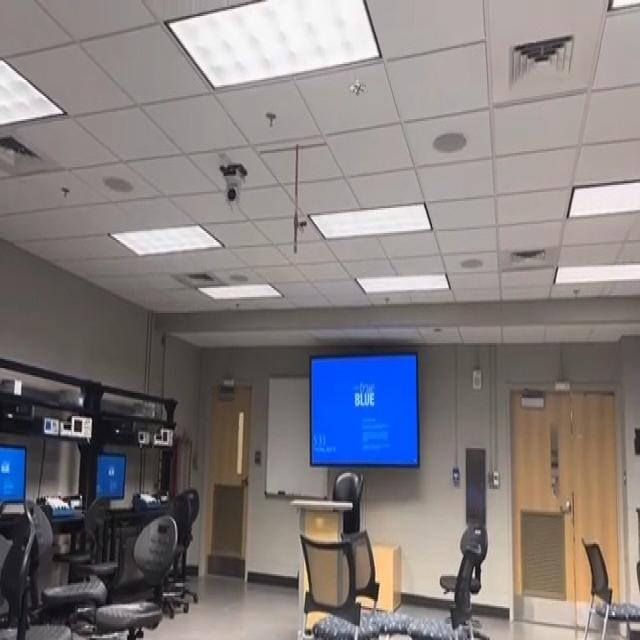drone: (340, 59, 373, 108)
